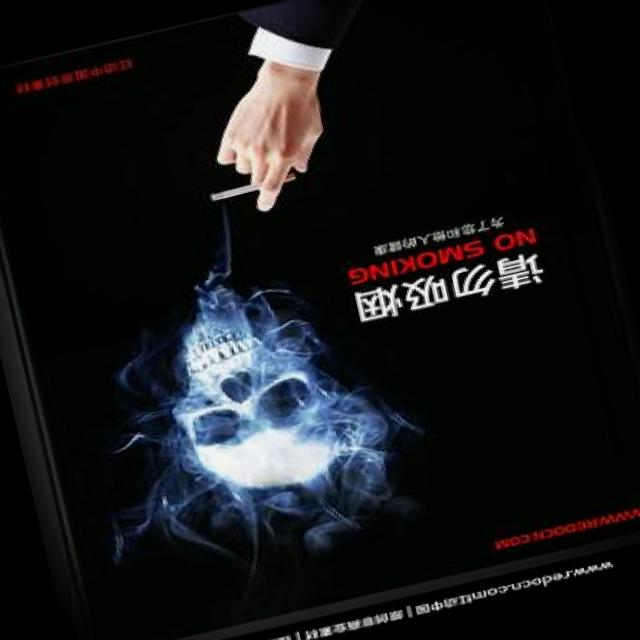cigarette: (186, 170, 253, 212)
